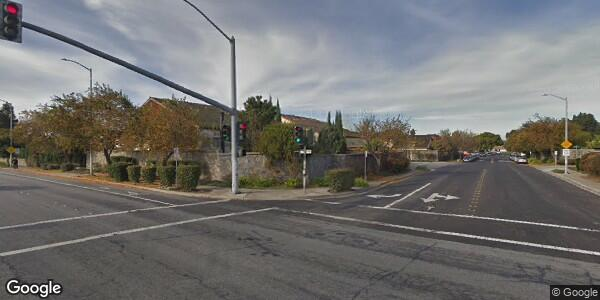Steel_Pole: (58, 56, 96, 178), (540, 91, 573, 176)
